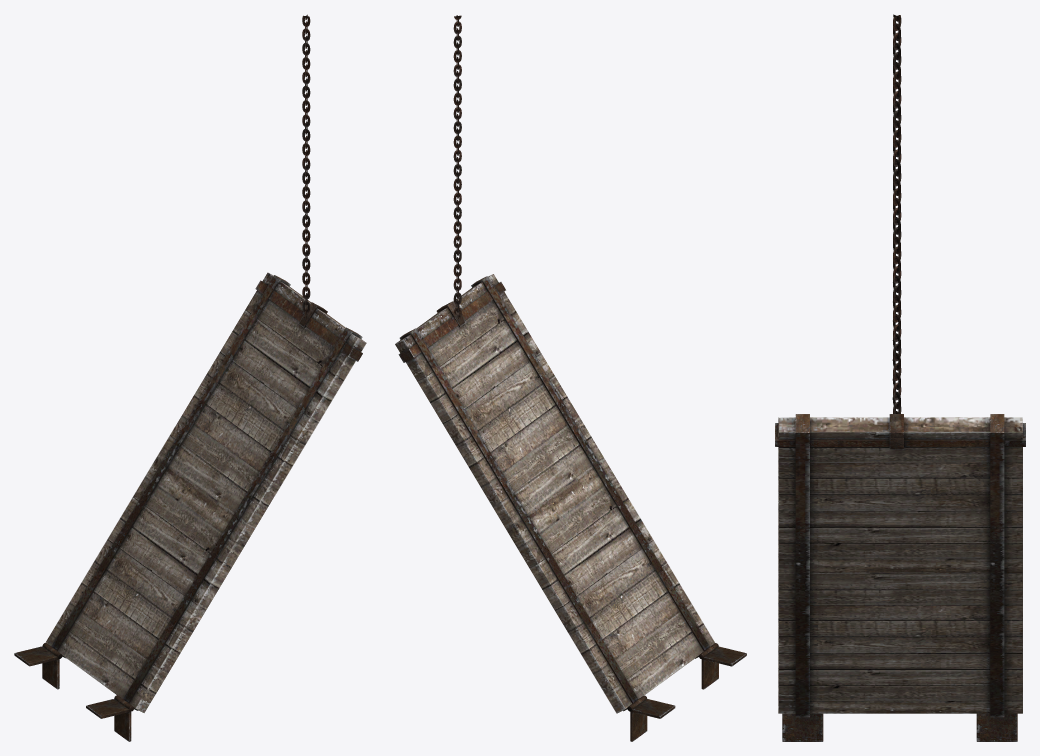
File: bridge_chained.dae
The picture shows the model from 3 angles, left to right: view 1: azimuth 30°, elevation 25°; view 2: azimuth 150°, elevation 25°; view 3: azimuth 270°, elevation 25°; orthographic projection. The views are drawn at different scales.
Visible parts, largest first — view 1: bridge, chain, hinge1, hinge2; view 2: bridge, chain, hinge1, hinge2; view 3: bridge, chain, hinge2, hinge1.
Boxes of the visible parts, <box> form: bridge: <box>45,272,366,712</box>; chain: <box>302,14,310,319</box>; hinge1: <box>86,695,134,741</box>; hinge2: <box>14,643,62,689</box>; bridge: <box>395,274,714,713</box>; chain: <box>453,15,461,320</box>; hinge1: <box>699,643,746,689</box>; hinge2: <box>627,695,675,741</box>; bridge: <box>775,414,1025,717</box>; chain: <box>892,14,901,413</box>; hinge2: <box>976,713,1017,741</box>; hinge1: <box>782,713,823,741</box>.
Size of the model in its own units: 4.26 by 9.8 by 2.56.
